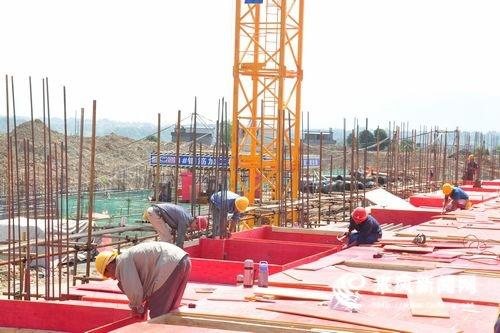Helmet: (97, 249, 120, 275), (352, 206, 367, 224), (236, 197, 250, 213)
